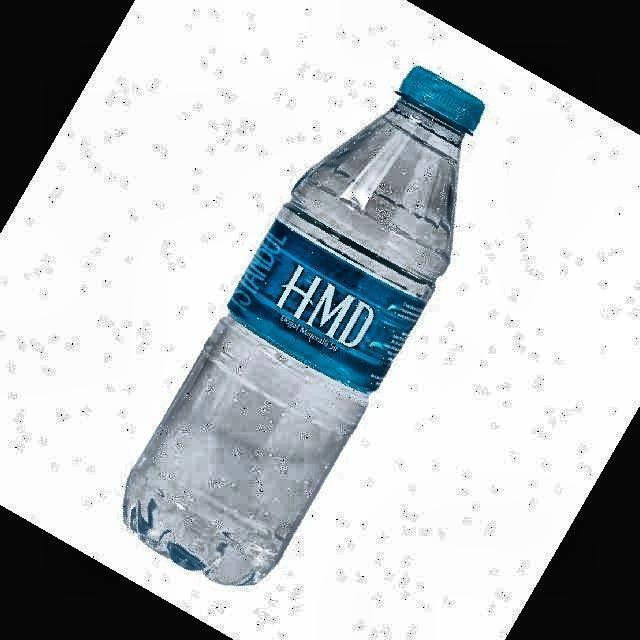plastic: (124, 66, 484, 584)
